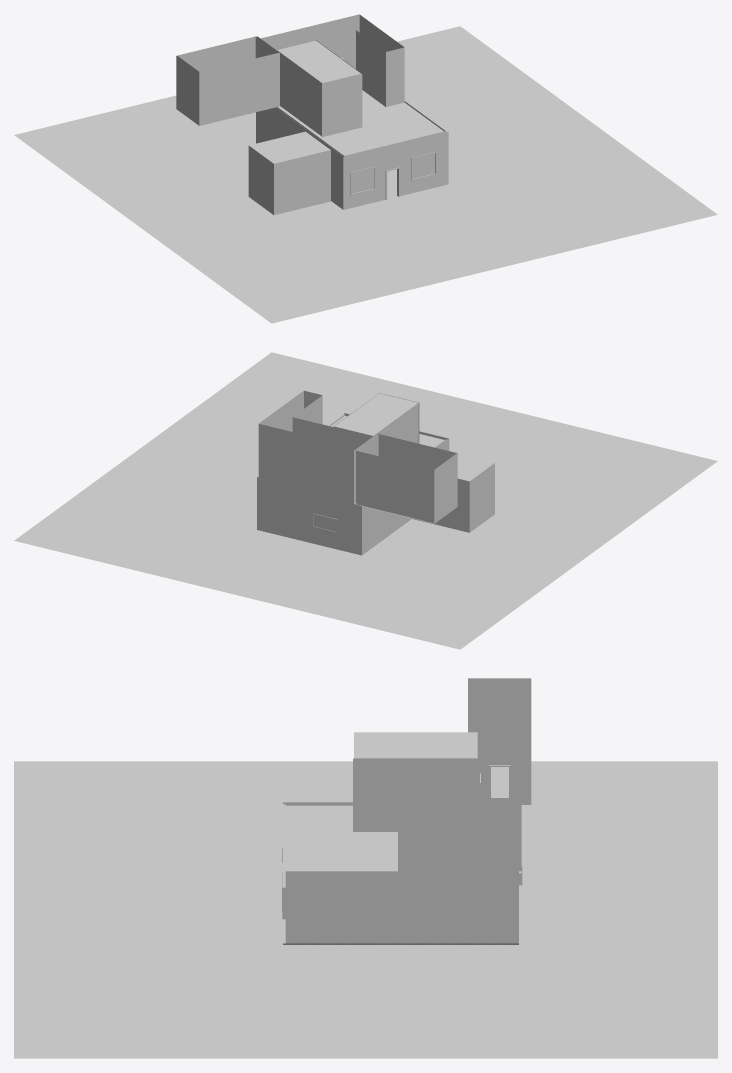
File: Blocking1.fbx
3 views of the same model, one above another, from view 1: azimuth 30°, elevation 25°; view 2: azimuth 150°, elevation 25°; view 3: azimuth 270°, elevation 25° (orthographic). The views are drawn at different scales.
Parts seen in each view (by area): view 1: Exterior, Cube.034, Pared_PP, Suleo_SP.001, Cube.025, Pared_Bano, Techo_PP, Cube.042, Techo:Bano, Cube.032; view 2: Exterior, Cube.034, Pared_PP, Suleo_SP.001, Pared_Bano, Cube.042, Cube.025, Techo:Bano, Cube.032; view 3: Exterior, Pared_PP, Suleo_SP.001, Techo_PP, Cube.034, Cube.025, Cube.042, Techo:Bano.
Part boxes in pixels (box(x1,y1,x2,y2)): Exterior: box(14, 26, 717, 323); Cube.034: box(176, 36, 279, 125); Pared_PP: box(256, 101, 448, 209); Suleo_SP.001: box(260, 14, 404, 106); Cube.025: box(276, 40, 362, 136); Pared_Bano: box(248, 145, 330, 215); Techo_PP: box(278, 90, 443, 155); Cube.042: box(277, 40, 360, 82); Techo:Bano: box(249, 131, 330, 163); Cube.032: box(316, 30, 355, 68); Exterior: box(14, 352, 717, 649); Cube.034: box(354, 433, 457, 523); Pared_PP: box(257, 413, 449, 555); Suleo_SP.001: box(258, 390, 356, 500); Pared_Bano: box(412, 463, 494, 532); Cube.042: box(334, 393, 417, 435); Cube.025: box(332, 393, 419, 447); Techo:Bano: box(457, 454, 494, 481); Cube.032: box(292, 417, 332, 441); Exterior: box(14, 761, 717, 1058); Pared_PP: box(283, 802, 518, 943); Suleo_SP.001: box(398, 785, 521, 871); Techo_PP: box(283, 804, 521, 873); Cube.034: box(468, 678, 531, 804); Cube.025: box(353, 758, 479, 831); Cube.042: box(354, 732, 477, 758); Techo:Bano: box(315, 766, 352, 802).
Bounding box in the file's own units: 3523 × 1209 × 3523.
